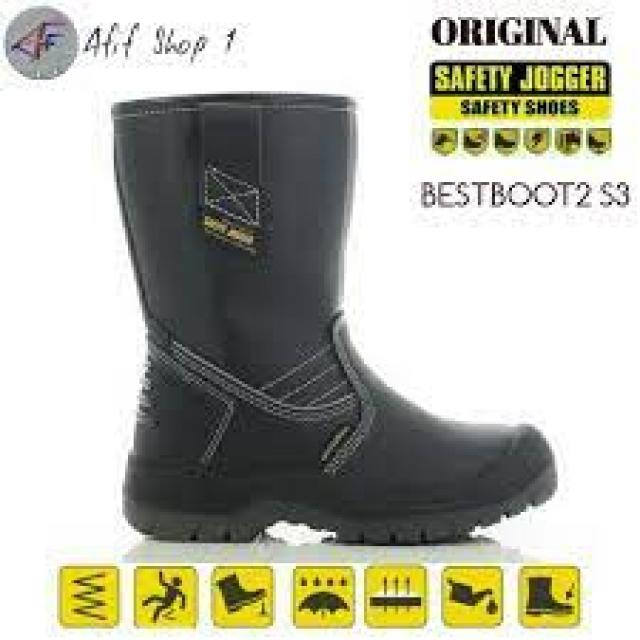shoes: (113, 91, 557, 541)
